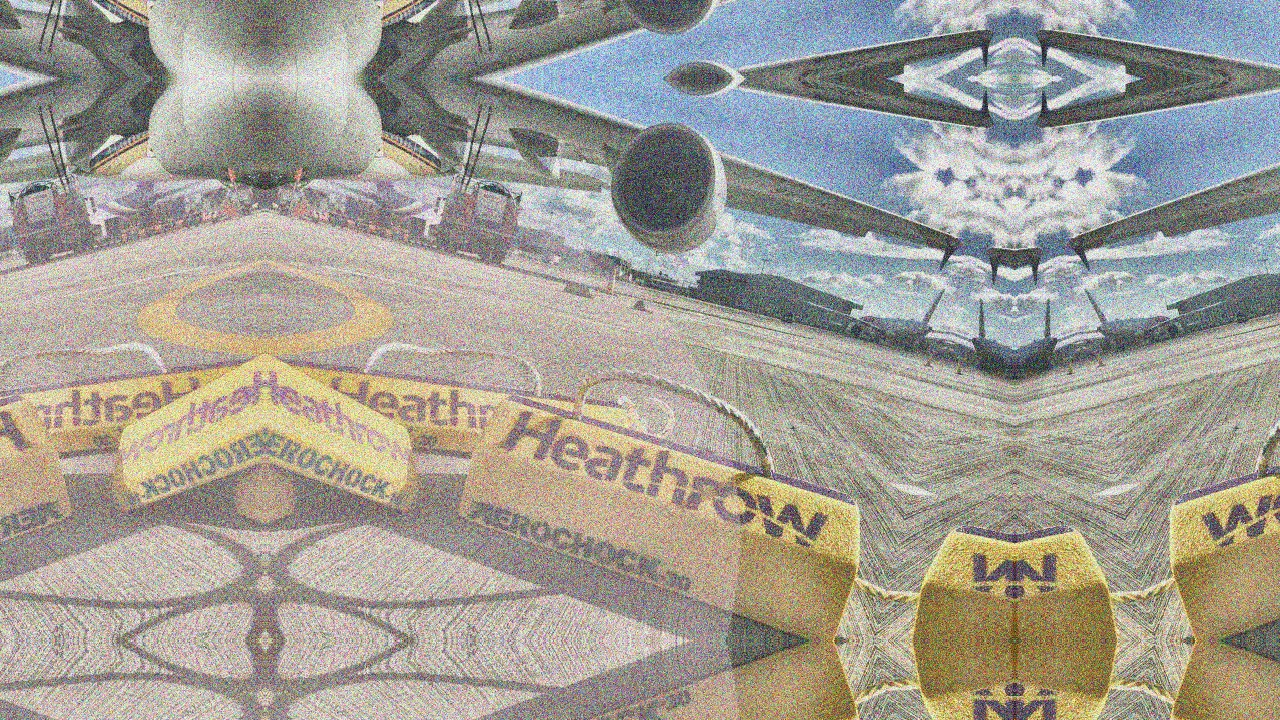chock: (445, 384, 881, 641), (265, 316, 636, 503), (0, 316, 265, 503), (445, 641, 881, 720), (1149, 384, 1280, 641), (84, 329, 265, 515), (265, 329, 446, 515), (0, 384, 85, 641)
